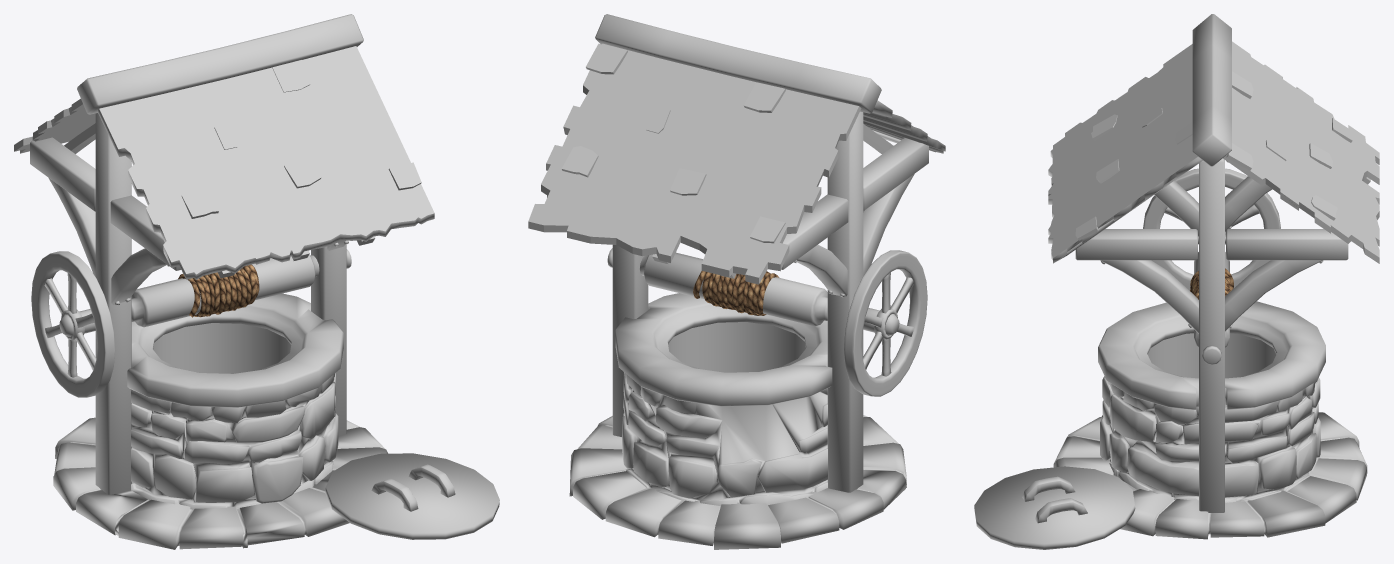
The model's file is well_lod0.fbx.
3 views of the same model, side by side, from view 1: azimuth 30°, elevation 25°; view 2: azimuth 150°, elevation 25°; view 3: azimuth 270°, elevation 25° (orthographic). The views are drawn at different scales.
Visible parts, largest first — view 1: well, rope; view 2: well, rope; view 3: well.
Part boxes in pixels (left/top/right/bottom): well: left=14, top=14, right=499, bottom=549; rope: left=178, top=264, right=259, bottom=317; well: left=528, top=14, right=945, bottom=549; rope: left=693, top=271, right=779, bottom=315; well: left=974, top=14, right=1379, bottom=549.
Bounding box in the file's own units: 448 × 547 × 498.
